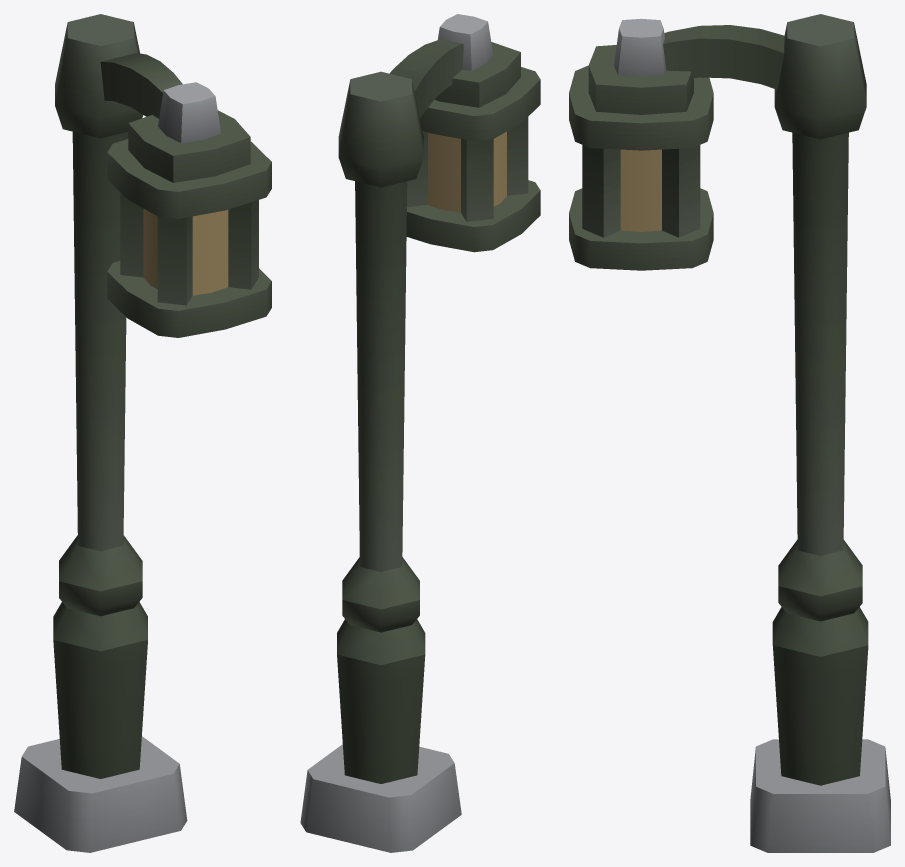
The model's file is lightpost-single.glb.
The picture shows the model from 3 angles, left to right: view 1: azimuth 30°, elevation 25°; view 2: azimuth 150°, elevation 25°; view 3: azimuth 270°, elevation 25°; orthographic projection. The views are drawn at different scales.
Visible parts, largest first — view 1: lightpost-single; view 2: lightpost-single; view 3: lightpost-single.
Boxes of the visible parts, left/top/right/bottom form: lightpost-single: left=14, top=14, right=271, bottom=852; lightpost-single: left=300, top=14, right=540, bottom=852; lightpost-single: left=569, top=14, right=890, bottom=852.
Bounding box in the file's own units: 0.5012 × 3.04 × 1.12.
Materials: 1 (1 with a texture image).
